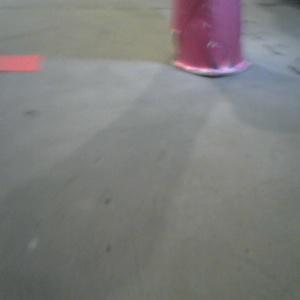right: (168, 1, 253, 77)
